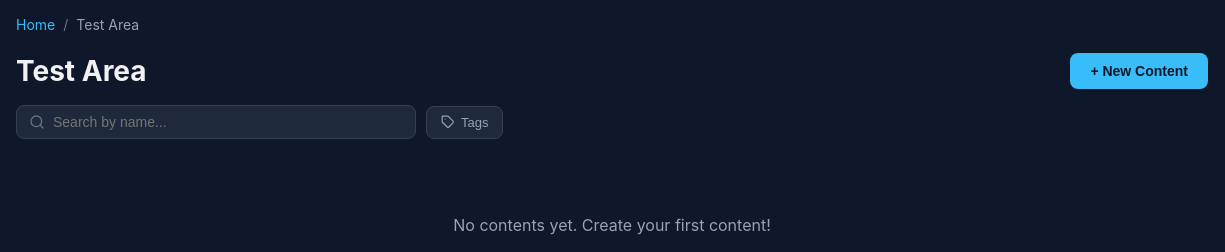
AreaPage › Edit Area Name › should save new name when pressing Enter
The image size is (1225, 252).
Click the heading "Test Area": (81, 71) [16,54,147,88]
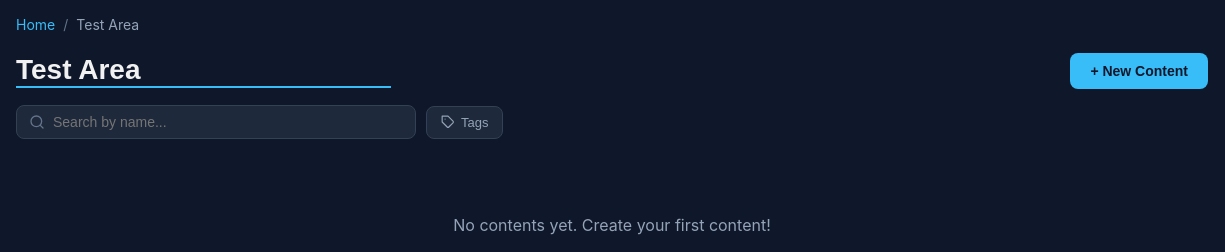
Replace the text in the field showing "Test Area" with "Renamed Area": (204, 71) [16,54,391,88]
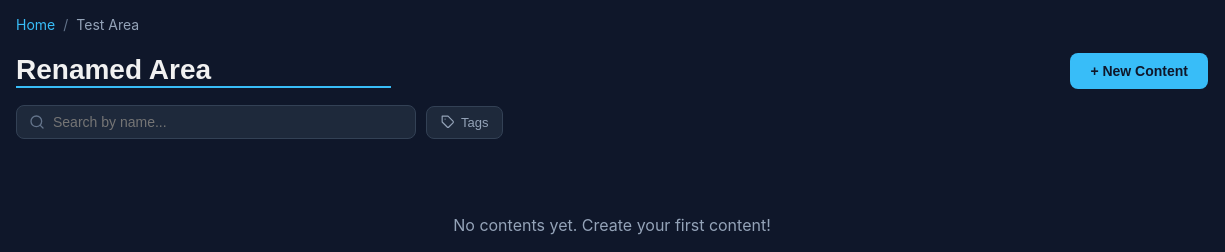
Press Enter in the field showing "Test Area", box [16,54,391,88]
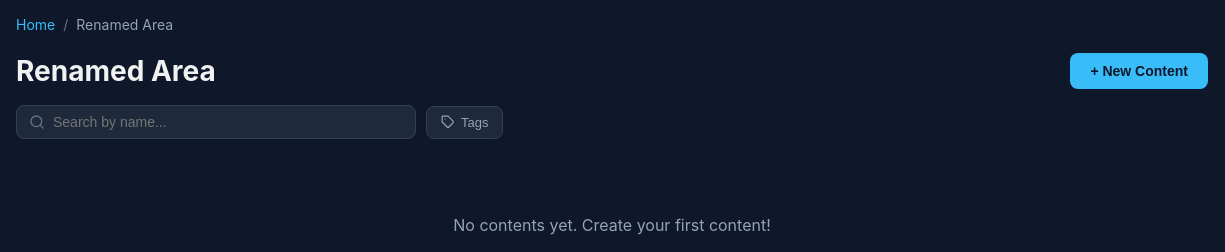
Now the text "Renamed Area" is shown, box [76,16,173,33]
